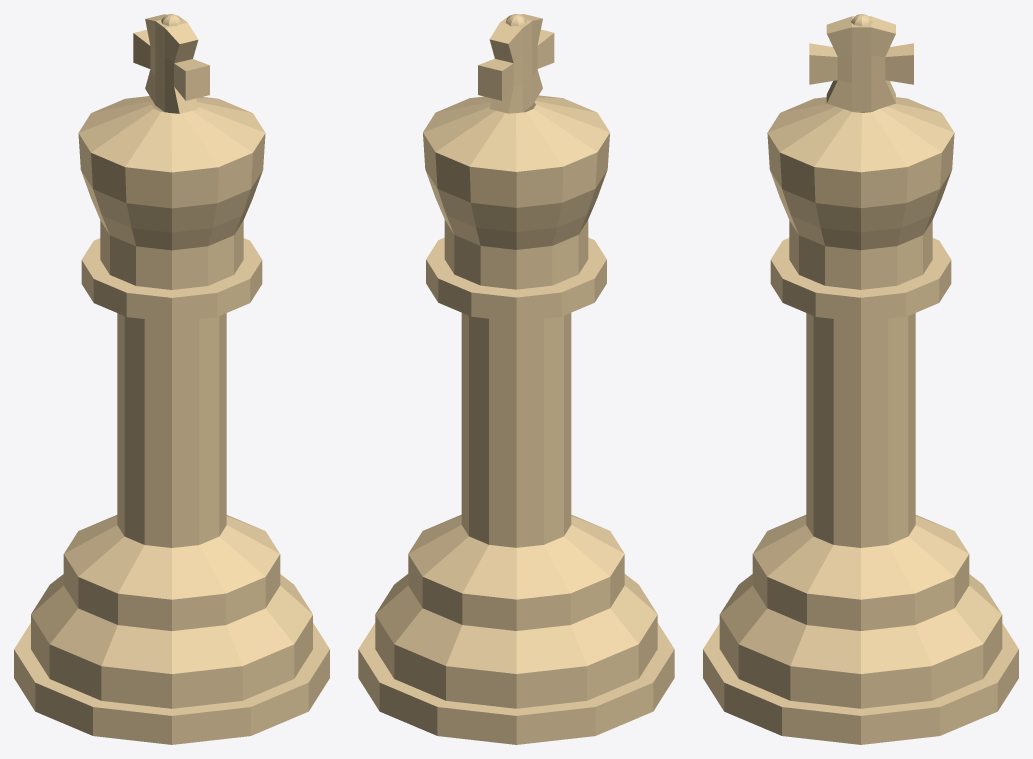
The model's file is lowpoly_k_w.glb.
3 views of the same model, side by side, from view 1: azimuth 30°, elevation 25°; view 2: azimuth 150°, elevation 25°; view 3: azimuth 270°, elevation 25° (orthographic).
Parts seen in each view (by area): view 1: King; view 2: King; view 3: King.
Boxes of the visible parts, x1=… form: King: x1=14, y1=14, x2=329, y2=744; King: x1=358, y1=14, x2=674, y2=744; King: x1=703, y1=14, x2=1018, y2=744.
Bounding box in the file's own units: 0.0821 × 0.1901 × 0.0821.
